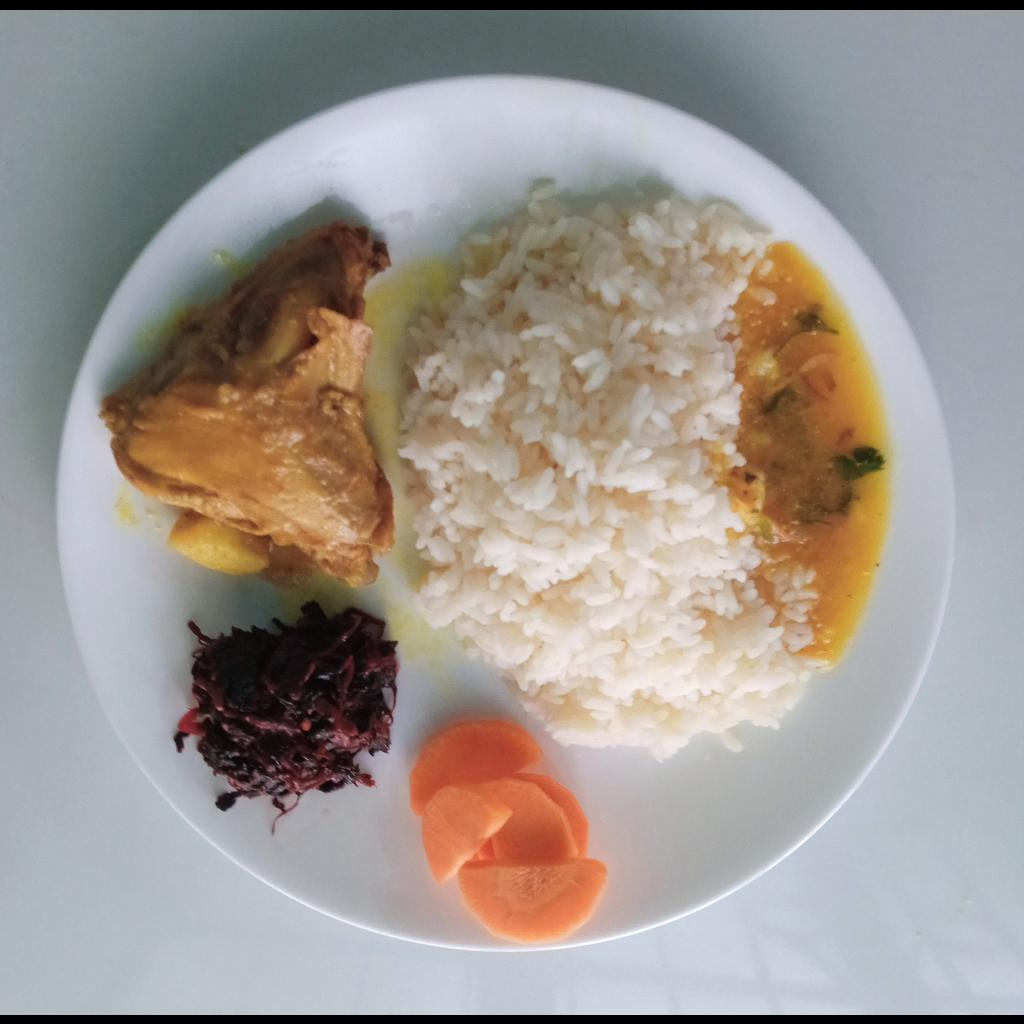carrot: (409, 716, 611, 946)
chicken: (95, 220, 395, 589)
daal: (728, 238, 873, 670)
rice: (394, 180, 808, 767)
shak: (180, 601, 396, 796)
